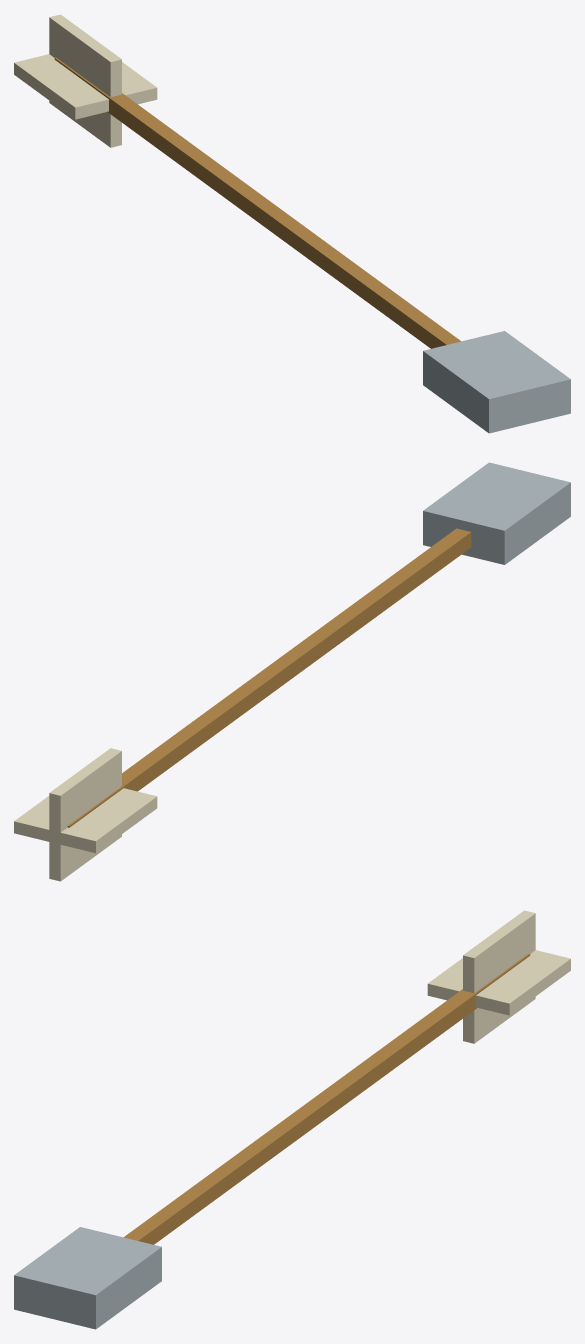
File: arrow.glb
3 views of the same model, one above another, from view 1: azimuth 30°, elevation 25°; view 2: azimuth 150°, elevation 25°; view 3: azimuth 330°, elevation 25° (orthographic).
Visible parts, largest first — view 1: arrow; view 2: arrow; view 3: arrow.
Part boxes in pixels (left/top/right/bottom): arrow: left=14, top=14, right=570, bottom=433; arrow: left=14, top=462, right=570, bottom=881; arrow: left=14, top=910, right=570, bottom=1329.
Size of the model in its own units: 0.1 by 0.1 by 1.
